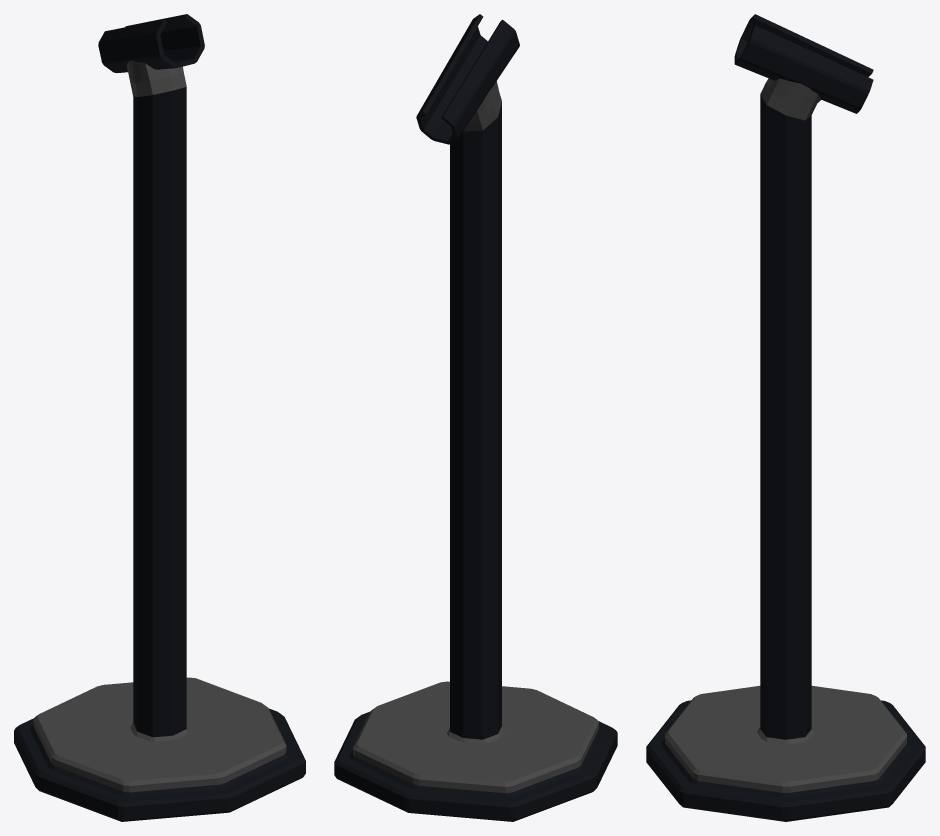
File: mic-stand.glb
3 views of the same model, side by side, from view 1: azimuth 30°, elevation 25°; view 2: azimuth 150°, elevation 25°; view 3: azimuth 270°, elevation 25° (orthographic). The views are drawn at different scales.
Visible parts, largest first — view 1: Mic Stand; view 2: Mic Stand; view 3: Mic Stand.
Boxes of the visible parts, left/top/right/bottom form: Mic Stand: left=14, top=14, right=305, bottom=821; Mic Stand: left=334, top=14, right=617, bottom=821; Mic Stand: left=646, top=14, right=925, bottom=821.
Bounding box in the file's own units: 4.87 × 14.33 × 4.87.
Materials: 1 (1 with a texture image).
